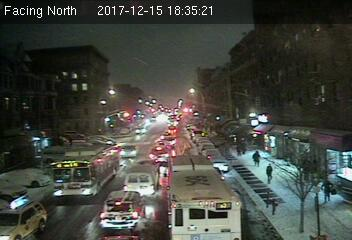bus: (52, 144, 119, 200)
car: (1, 195, 47, 240), (103, 192, 146, 227), (148, 146, 172, 160), (120, 144, 136, 157)
pedestrian: (266, 162, 274, 187), (253, 149, 259, 167)
truck: (124, 165, 158, 195)
